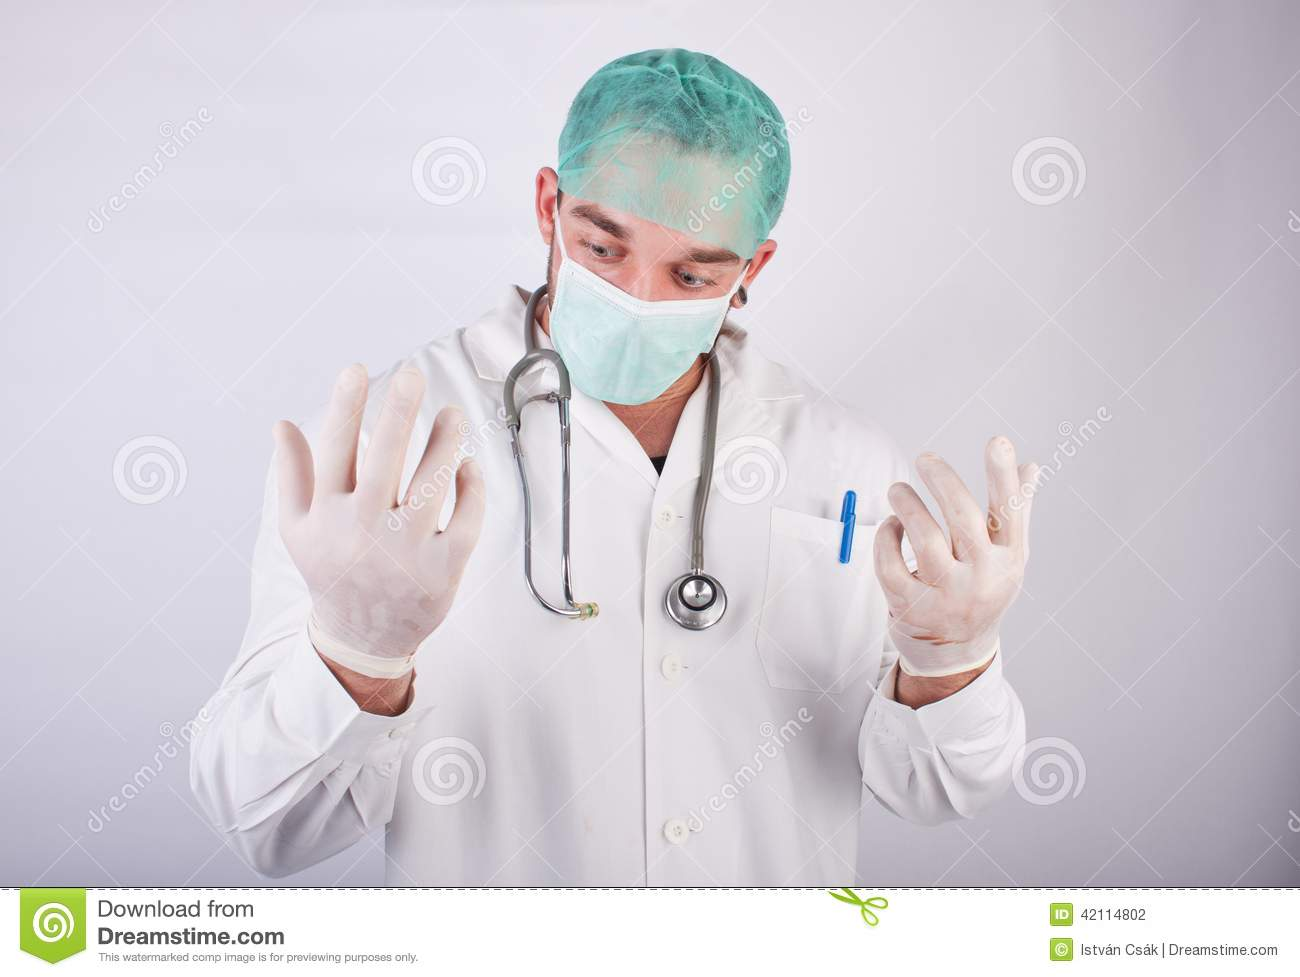mask: (547, 258, 739, 428)
